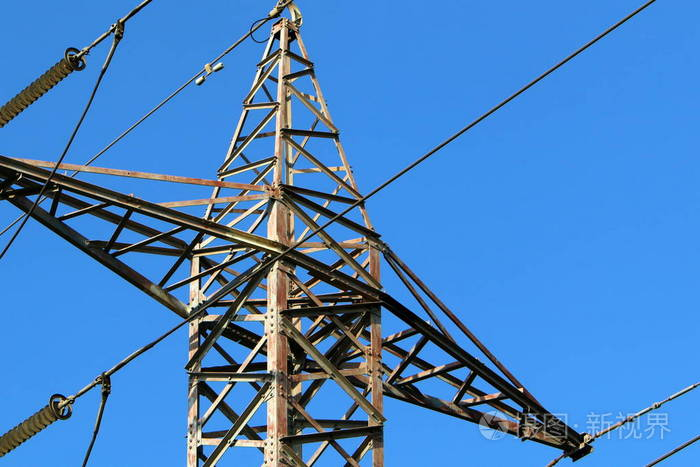insulator: (1, 51, 77, 128), (1, 402, 62, 460)
